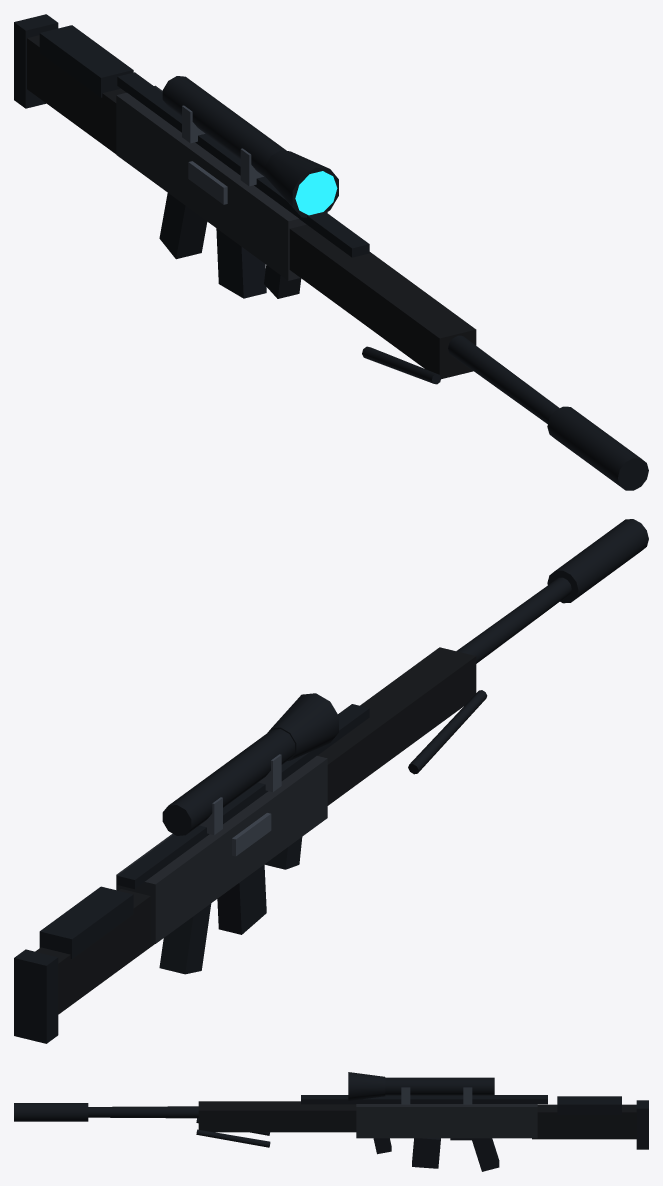
3 renders of one model, top to bottom at view 1: azimuth 30°, elevation 25°; view 2: azimuth 150°, elevation 25°; view 3: azimuth 270°, elevation 25°, orthographic. The views are drawn at different scales.
Visible parts, largest first — view 1: Weapon_m24; view 2: Weapon_m24; view 3: Weapon_m24.
Part boxes in pixels (x1,y1,x2,y2): Weapon_m24: (14,14,648,490); Weapon_m24: (14,519,648,1043); Weapon_m24: (14,1072,648,1171).
Bounding box in the file's own units: 0.084 × 0.2559 × 1.54.
